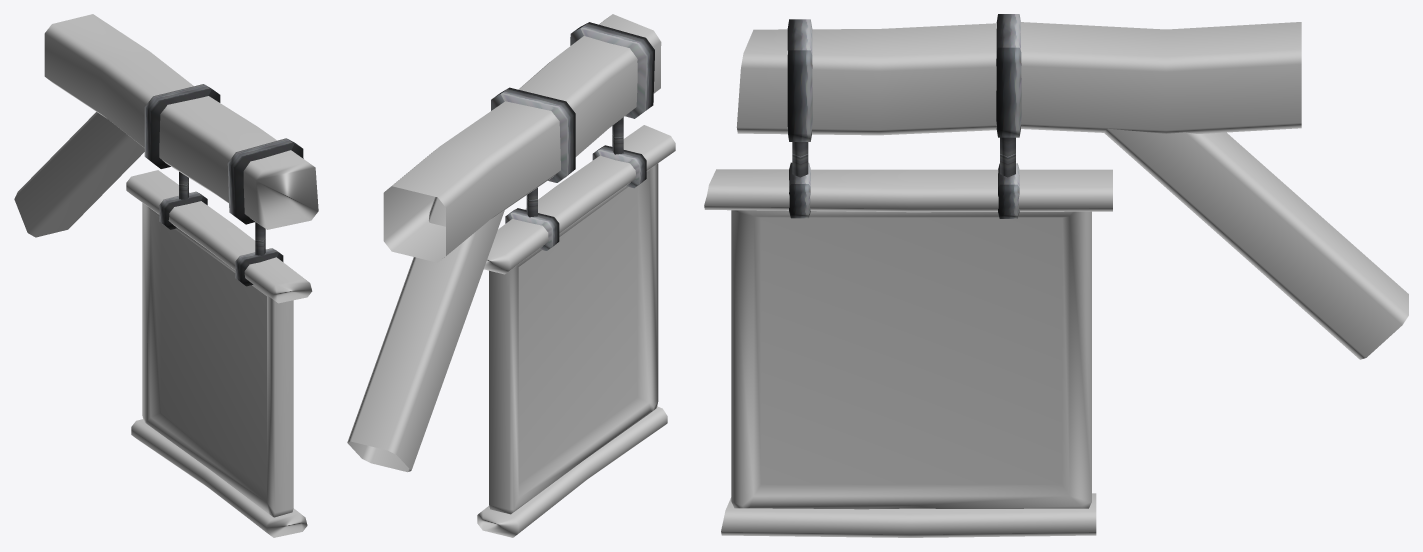
The model's file is ShopSign.fbx.
3 renders of one model, left to right at view 1: azimuth 30°, elevation 25°; view 2: azimuth 150°, elevation 25°; view 3: azimuth 270°, elevation 25°, orthographic. The views are drawn at different scales.
Parts seen in each view (by area): view 1: Mesh; view 2: Mesh; view 3: Mesh.
Part boxes in pixels (bbox=[...]): Mesh: bbox=[14, 14, 318, 537]; Mesh: bbox=[347, 14, 675, 537]; Mesh: bbox=[704, 14, 1408, 537].
Size of the model in its own units: 29.22 by 136 by 175.
